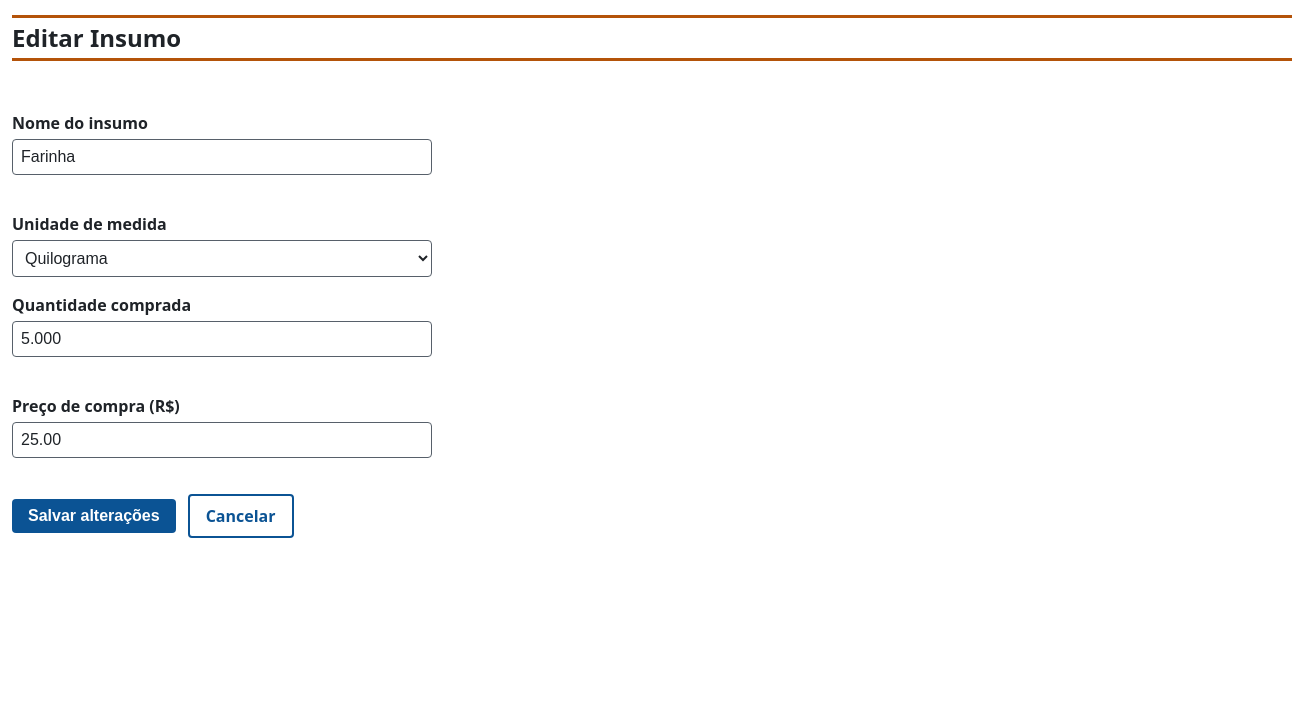
InsumoForm (Modo Edição) › (g) erro 400 mockado na edição exibe mensagem no campo
This screenshot has width=1292, height=720.
Expected: the field labelled "Nome do insumo" holds "Farinha", [12,139,432,175]
Click the button "Salvar alterações".
click(94, 516)  # box [12,499,176,533]
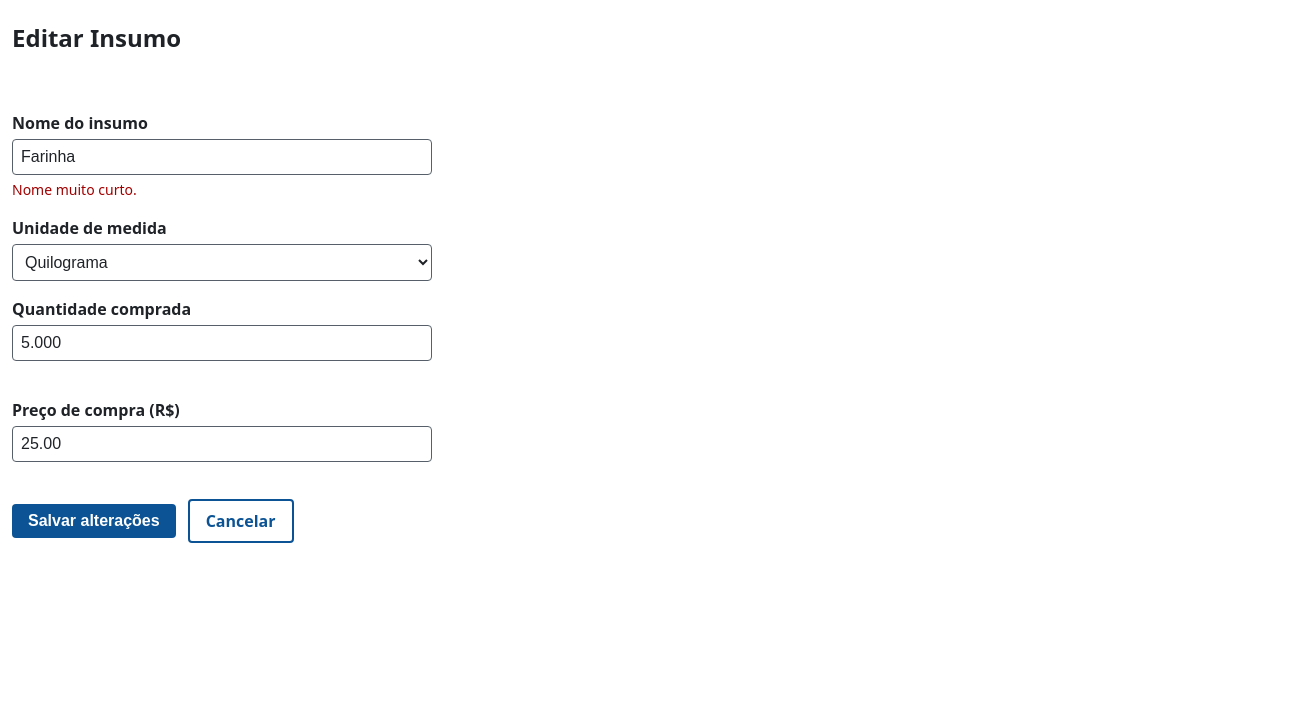
Expected: the text "Nome muito curto." is shown, [12,180,137,199]
